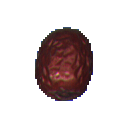gd: (27, 19, 118, 110)
